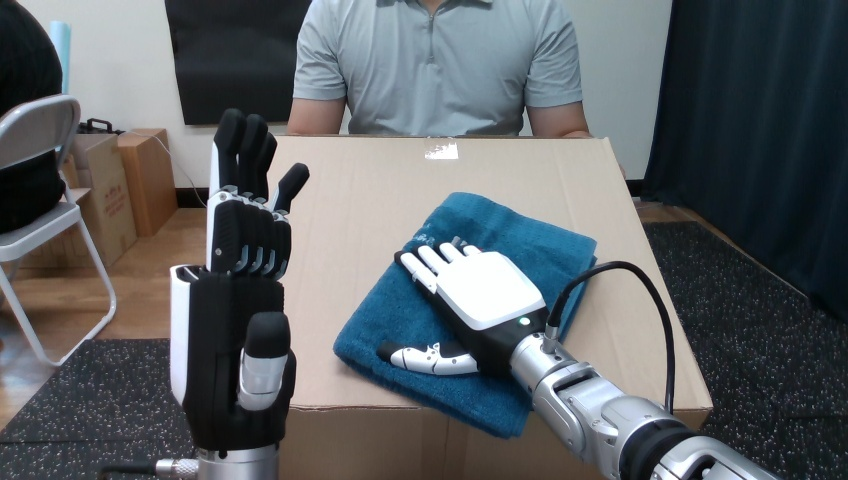left robot hand: (377, 239, 777, 479), (121, 109, 308, 479), (558, 268, 667, 407)
